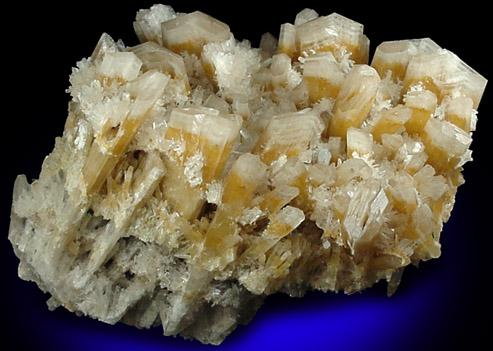gypsum: (70, 4, 488, 294)
